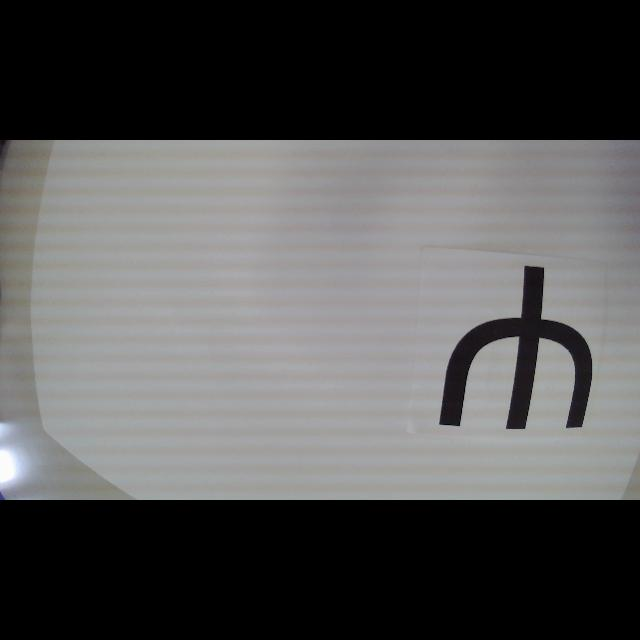PSI: (438, 264, 592, 430)
